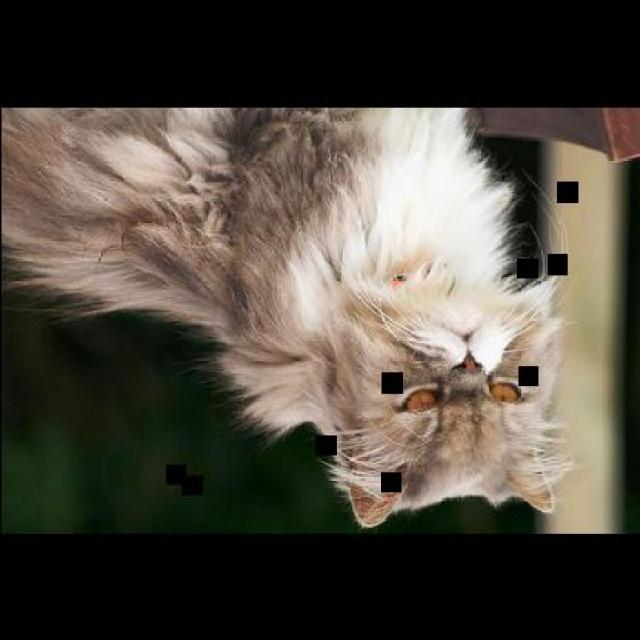unauthorized: (0, 106, 575, 527)
